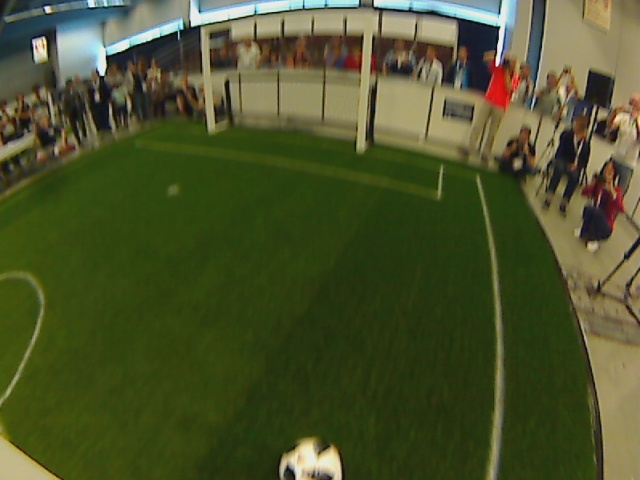ball: (165, 183, 181, 197)
